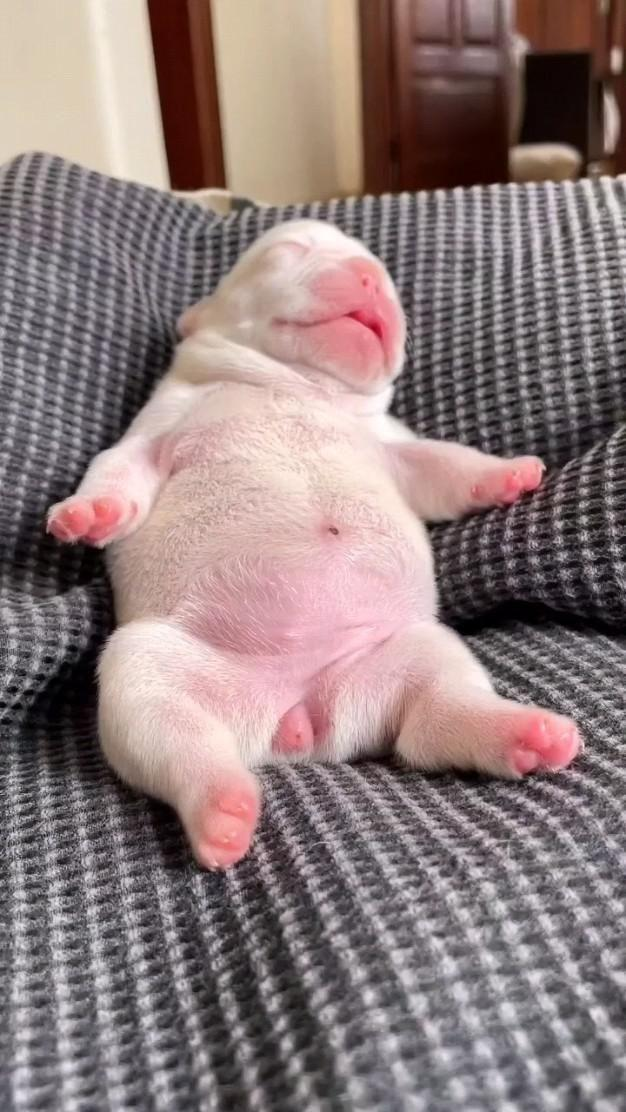puppy-dog: (46, 221, 586, 874)
